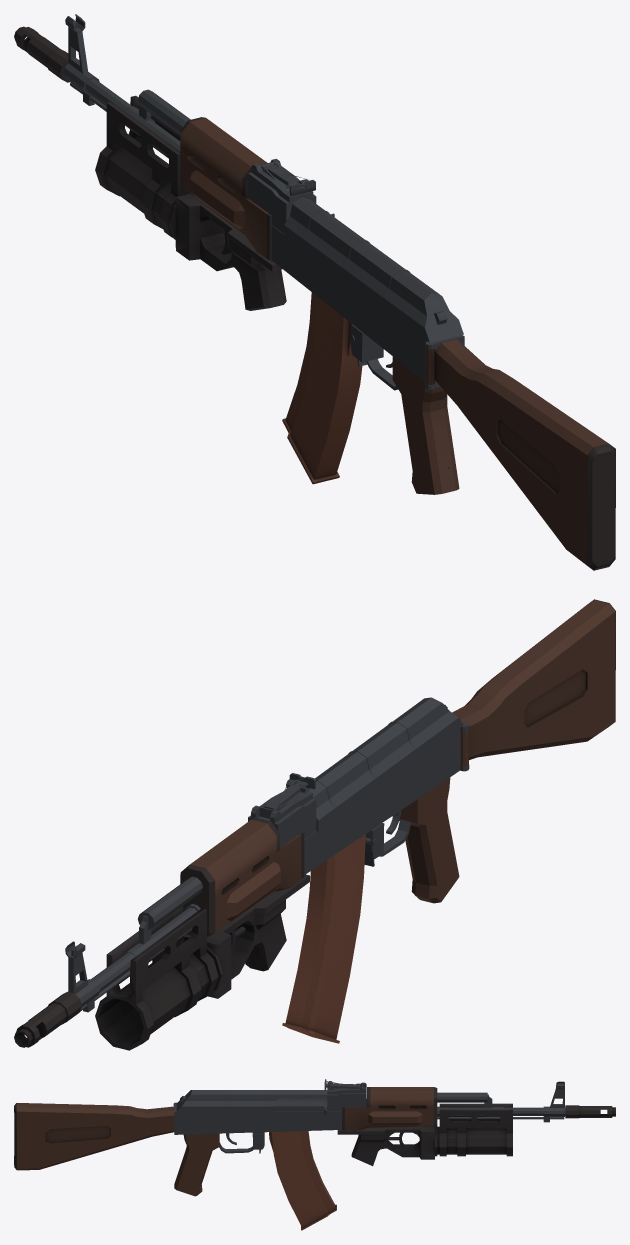
The picture shows the model from 3 angles, top to bottom: view 1: azimuth 30°, elevation 25°; view 2: azimuth 150°, elevation 25°; view 3: azimuth 270°, elevation 25°; orthographic projection. The views are drawn at different scales.
Visible parts, largest first — view 1: Stock_full_AK_Platform_Guards_mat_0, Body_AK_Platform_Body_mat_0, GP25_Standard_AK_Platforms_Magazine_mat_0, Magazine_Standard_Bakelite_AK_Platforms_Magazine_mat_0, Handguard_Standard_AK_Platform_Guards_mat_0, Grip_AK_Platform_Guards_mat_0, Barrel_Standard_AK_Platform_Body_mat_0, Muzzle_Brake_AK_Platform_Accesories_mat_0; view 2: Body_AK_Platform_Body_mat_0, Stock_full_AK_Platform_Guards_mat_0, GP25_Standard_AK_Platforms_Magazine_mat_0, Magazine_Standard_Bakelite_AK_Platforms_Magazine_mat_0, Handguard_Standard_AK_Platform_Guards_mat_0, Grip_AK_Platform_Guards_mat_0, Barrel_Standard_AK_Platform_Body_mat_0, Muzzle_Brake_AK_Platform_Accesories_mat_0, Ironsights_AK_Platform_Body_mat_0; view 3: Stock_full_AK_Platform_Guards_mat_0, Body_AK_Platform_Body_mat_0, GP25_Standard_AK_Platforms_Magazine_mat_0, Magazine_Standard_Bakelite_AK_Platforms_Magazine_mat_0, Handguard_Standard_AK_Platform_Guards_mat_0, Barrel_Standard_AK_Platform_Body_mat_0, Grip_AK_Platform_Guards_mat_0, Bolt_AK_Platform_Body_mat_0, Muzzle_Brake_AK_Platform_Accesories_mat_0.
Part boxes in pixels (bbox=[...]): Stock_full_AK_Platform_Guards_mat_0: bbox=[425, 339, 615, 570]; Body_AK_Platform_Body_mat_0: bbox=[248, 158, 464, 390]; GP25_Standard_AK_Platforms_Magazine_mat_0: bbox=[95, 95, 286, 310]; Magazine_Standard_Bakelite_AK_Platforms_Magazine_mat_0: bbox=[282, 292, 362, 484]; Handguard_Standard_AK_Platform_Guards_mat_0: bbox=[180, 117, 272, 261]; Grip_AK_Platform_Guards_mat_0: bbox=[392, 356, 459, 494]; Barrel_Standard_AK_Platform_Body_mat_0: bbox=[62, 14, 190, 156]; Muzzle_Brake_AK_Platform_Accesories_mat_0: bbox=[14, 26, 69, 82]; Body_AK_Platform_Body_mat_0: bbox=[248, 697, 469, 874]; Stock_full_AK_Platform_Guards_mat_0: bbox=[452, 599, 615, 766]; GP25_Standard_AK_Platforms_Magazine_mat_0: bbox=[95, 874, 309, 1050]; Magazine_Standard_Bakelite_AK_Platforms_Magazine_mat_0: bbox=[282, 834, 365, 1043]; Handguard_Standard_AK_Platform_Guards_mat_0: bbox=[180, 817, 304, 937]; Grip_AK_Platform_Guards_mat_0: bbox=[392, 777, 459, 903]; Barrel_Standard_AK_Platform_Body_mat_0: bbox=[65, 876, 202, 1012]; Muzzle_Brake_AK_Platform_Accesories_mat_0: bbox=[14, 991, 81, 1047]; Ironsights_AK_Platform_Body_mat_0: bbox=[264, 773, 315, 810]; Stock_full_AK_Platform_Guards_mat_0: bbox=[14, 1103, 174, 1170]; Body_AK_Platform_Body_mat_0: bbox=[173, 1082, 366, 1153]; GP25_Standard_AK_Platforms_Magazine_mat_0: bbox=[337, 1103, 512, 1166]; Magazine_Standard_Bakelite_AK_Platforms_Magazine_mat_0: bbox=[269, 1131, 336, 1230]; Handguard_Standard_AK_Platform_Guards_mat_0: bbox=[342, 1087, 437, 1130]; Barrel_Standard_AK_Platform_Body_mat_0: bbox=[437, 1081, 565, 1122]; Grip_AK_Platform_Guards_mat_0: bbox=[174, 1133, 219, 1196]; Bolt_AK_Platform_Body_mat_0: bbox=[273, 1098, 327, 1115]; Muzzle_Brake_AK_Platform_Accesories_mat_0: bbox=[565, 1105, 615, 1118].
Bounding box in the file's own units: 5.01 × 22.81 × 85.55.
Materials: 4 (4 with a texture image).
